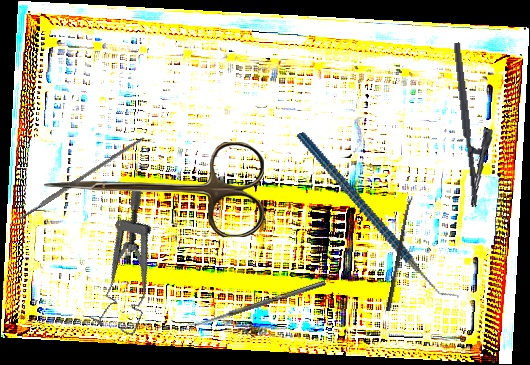Chopper: (295, 100, 461, 332)
Iris Scissors: (44, 142, 264, 237)
Needle Holder: (452, 39, 501, 208)
Scalpel Handle: (17, 134, 146, 222)
Speculum: (76, 184, 188, 340)
Surgical Spoon: (184, 279, 327, 331), (385, 195, 414, 312)
